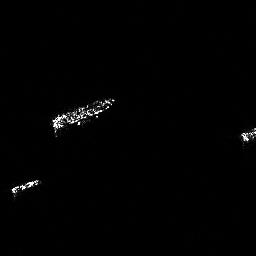ship: (50, 94, 115, 137), (9, 177, 42, 197), (240, 124, 256, 145)
